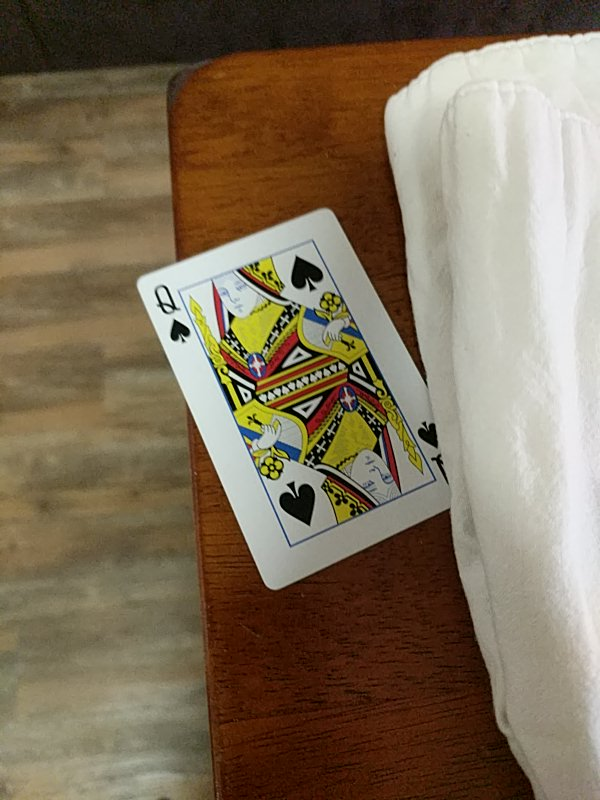Spades: (133, 207, 470, 589)
